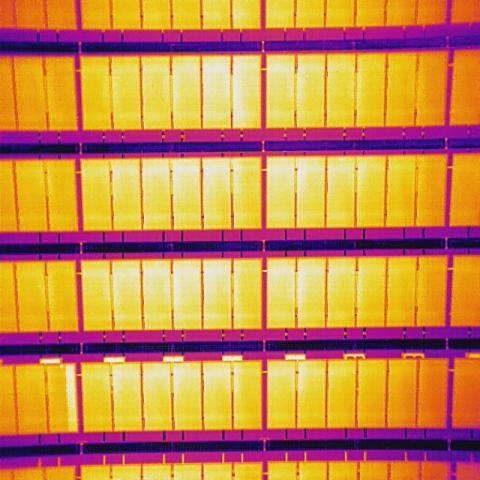fault: (66, 362, 78, 431), (59, 363, 64, 370)
